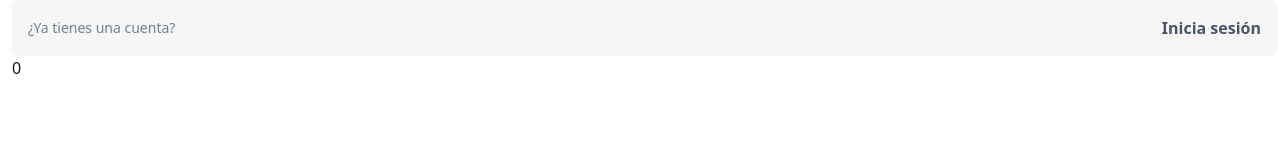
Scenario: GuestLoginBanner › requests the login modal through the checkout login intent context when clicked
The image size is (1278, 160).
Expected: the text with test id "login-request-count" reads "0", [12,57,21,79]
Step 1. Click the button "Inicia sesión" → (1211, 28), box [1162,16,1261,40]
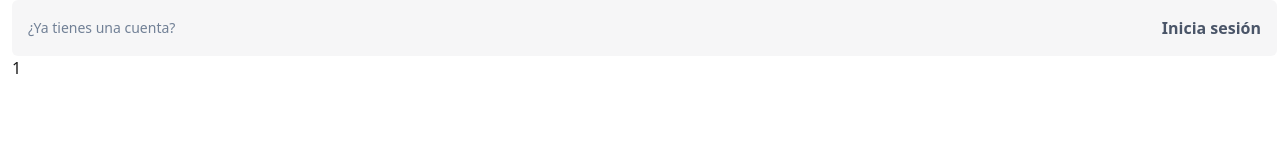
Now the text with test id "login-request-count" reads "1", box [12,57,21,79]
